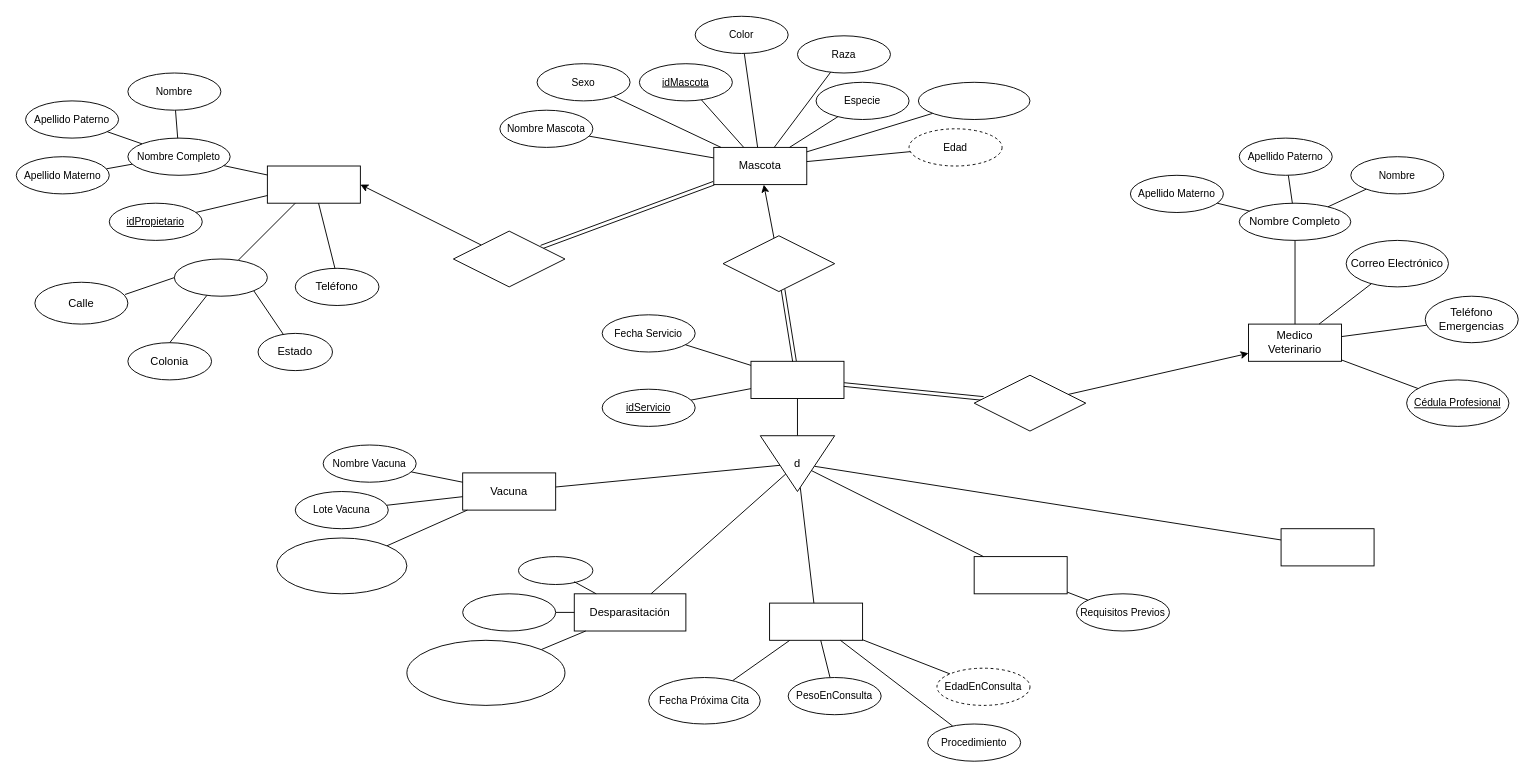
The diagram is 1535 pixels wide and 777 high, and some of its shapes have lost their labels. Here are the shapes that lost their labels. From the top down, the centre of each, then its label:
(x=973, y=100): Fecha Nacimiento
(x=313, y=184): Propietario
(x=220, y=277): Direccion
(x=508, y=258): Pertenece
(x=778, y=263): Recibir
(x=797, y=379): Servicio
(x=1029, y=402): Atender
(x=341, y=565): Fecha Próxima Vacuna
(x=1327, y=547): Esterilización
(x=555, y=570): Dosis
(x=1020, y=575): Cirugía General
(x=509, y=612): Producto
(x=816, y=621): Consulta
(x=485, y=672): Fecha Próxima Desparasitación
